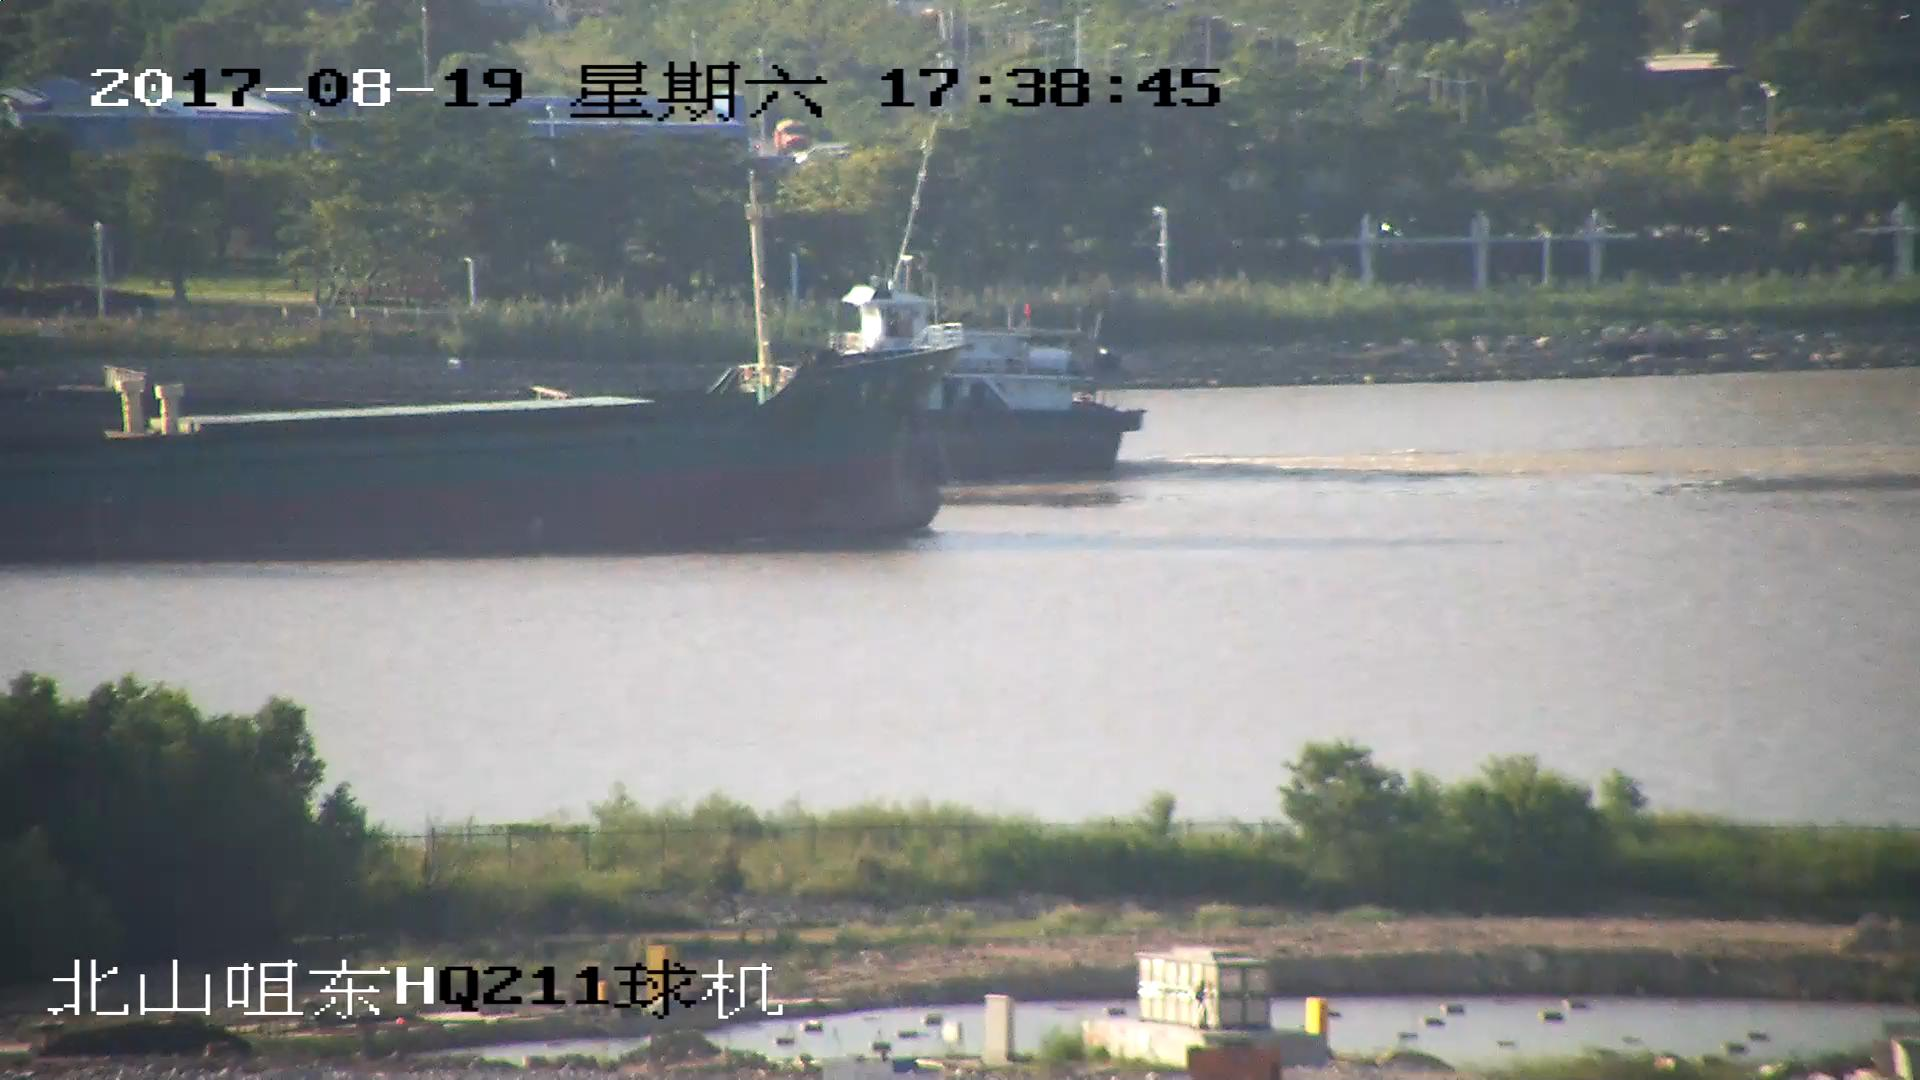general cargo ship: (1, 316, 953, 539)
